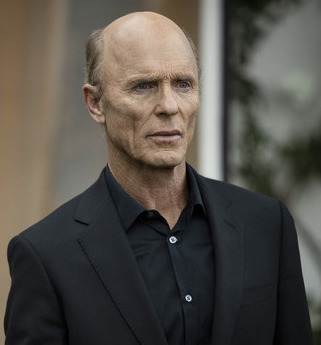Without Helmet: (73, 3, 208, 190)
